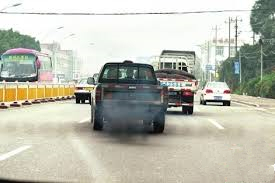smoke: (108, 109, 158, 141)
